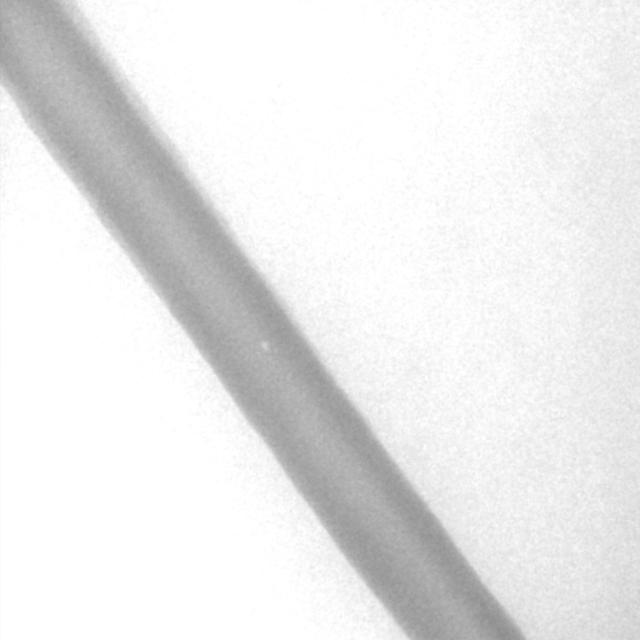air hole: (259, 339, 272, 355)
